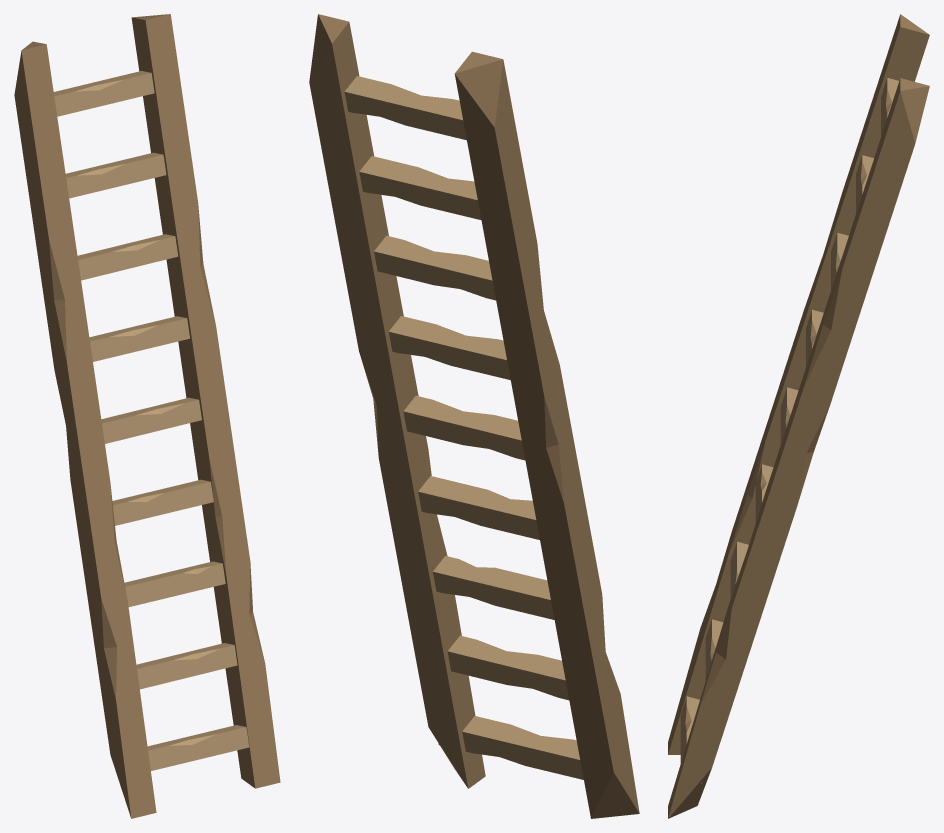
File: SM_Env_Stair_03.fbx
3 views of the same model, side by side, from view 1: azimuth 30°, elevation 25°; view 2: azimuth 150°, elevation 25°; view 3: azimuth 270°, elevation 25° (orthographic). The views are drawn at different scales.
Visible parts, largest first — view 1: SM_Env_Stair_03; view 2: SM_Env_Stair_03; view 3: SM_Env_Stair_03.
Part boxes in pixels (x1,y1,x2,y2): SM_Env_Stair_03: (14,14,280,818); SM_Env_Stair_03: (309,14,639,818); SM_Env_Stair_03: (668,14,929,818).
Bounding box in the file's own units: 49.71 × 219 × 71.41.
1 material, 1 textured.
